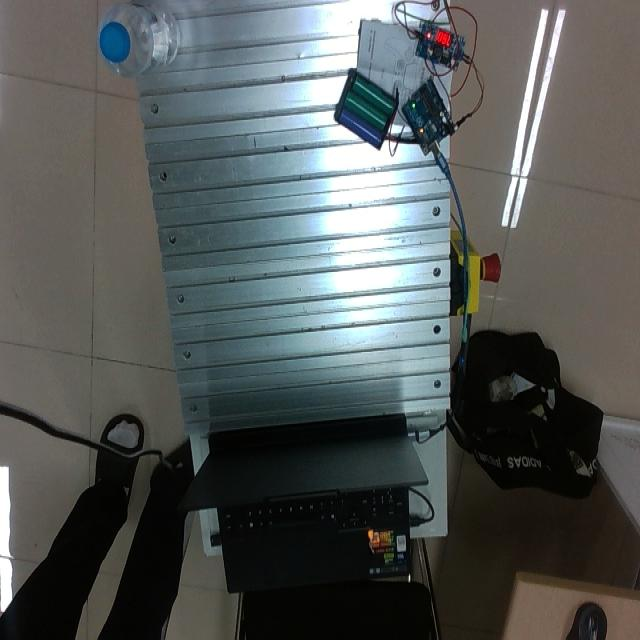lavie: (97, 5, 182, 79)
